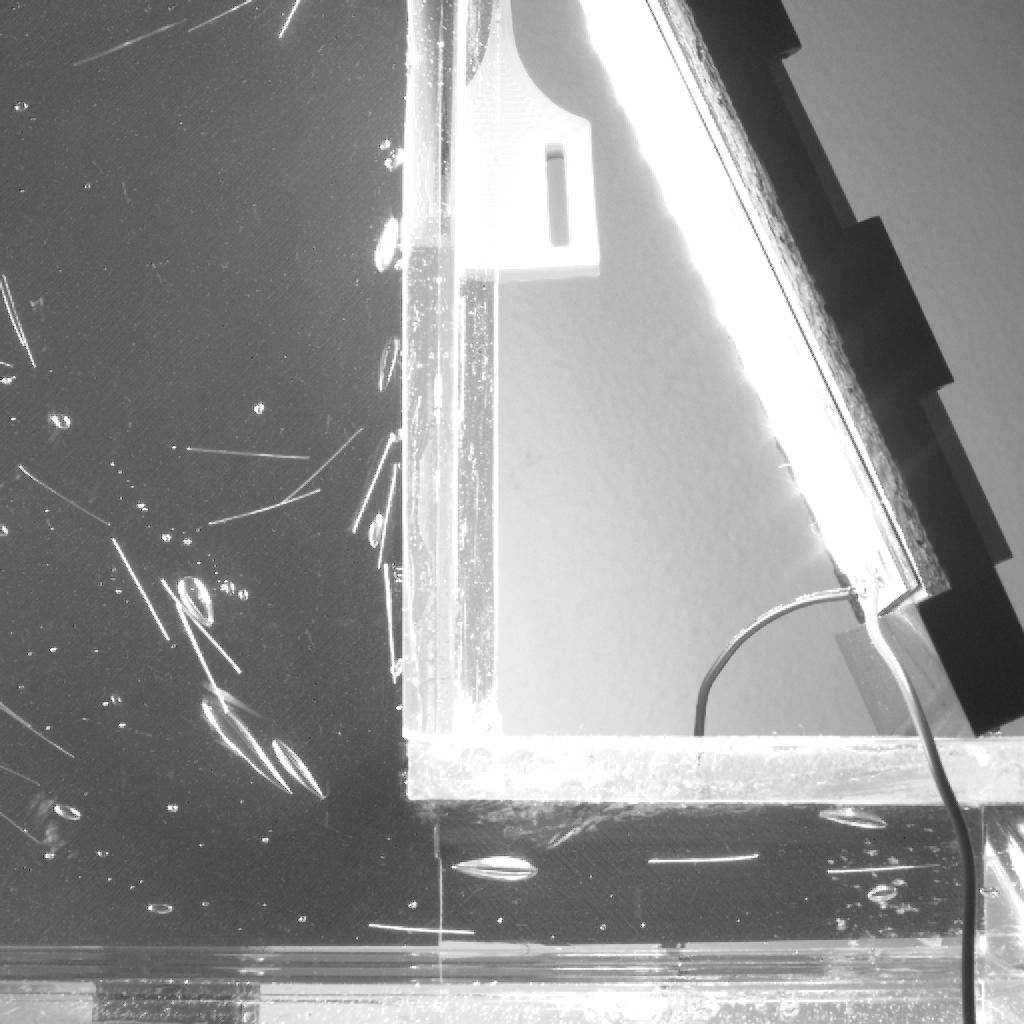Fiber: (154, 574, 247, 682), (100, 533, 177, 650), (278, 421, 373, 514), (66, 13, 194, 78), (170, 602, 235, 716), (343, 430, 402, 544), (16, 463, 113, 530), (201, 483, 324, 534), (0, 697, 78, 764), (0, 272, 41, 372), (372, 461, 402, 573), (179, 443, 311, 465), (378, 559, 400, 690), (640, 848, 771, 870), (187, 0, 262, 37), (826, 856, 945, 879), (366, 918, 480, 938), (0, 269, 27, 353), (0, 804, 46, 850), (0, 762, 45, 790), (275, 0, 302, 43)
